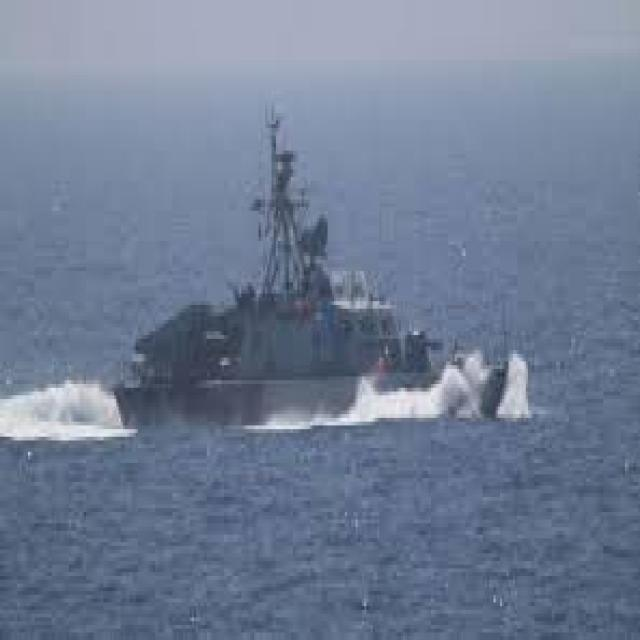navalvessels: (112, 85, 523, 457)
